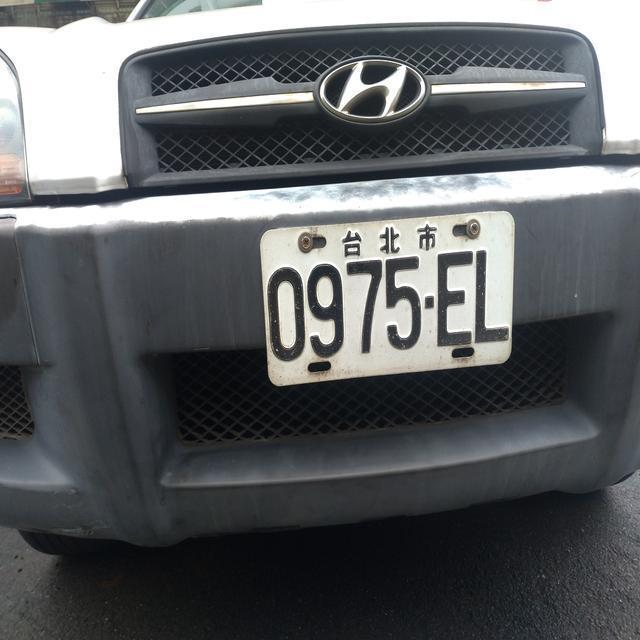license: (260, 239, 516, 370)
